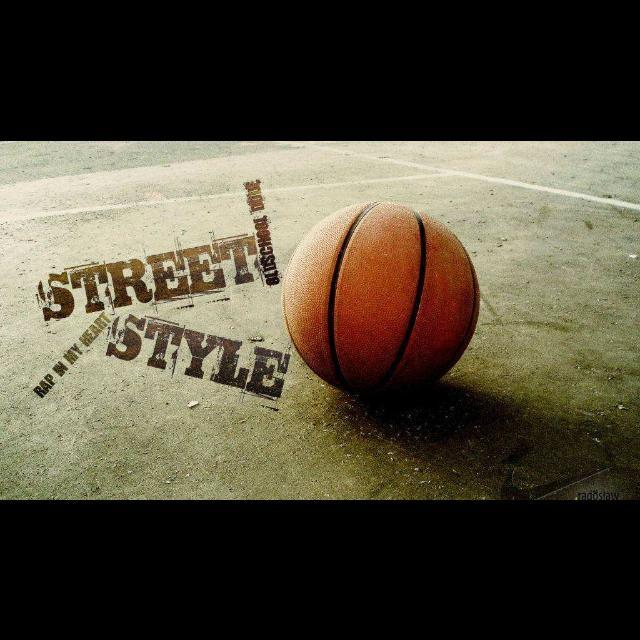basketball: (282, 200, 480, 390)
